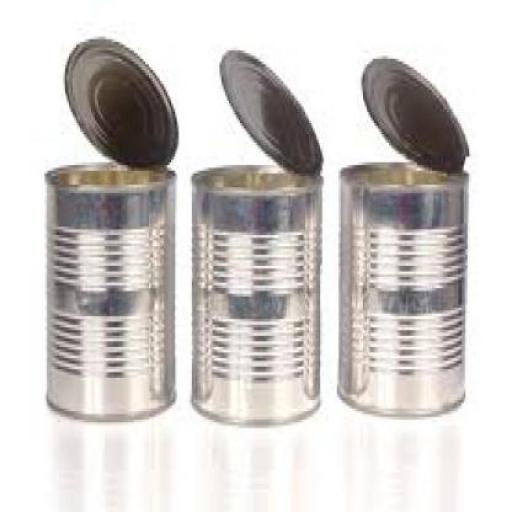metal: (42, 165, 176, 420), (190, 165, 318, 420), (336, 162, 464, 414), (61, 34, 179, 168), (218, 48, 322, 174), (361, 56, 467, 170)
